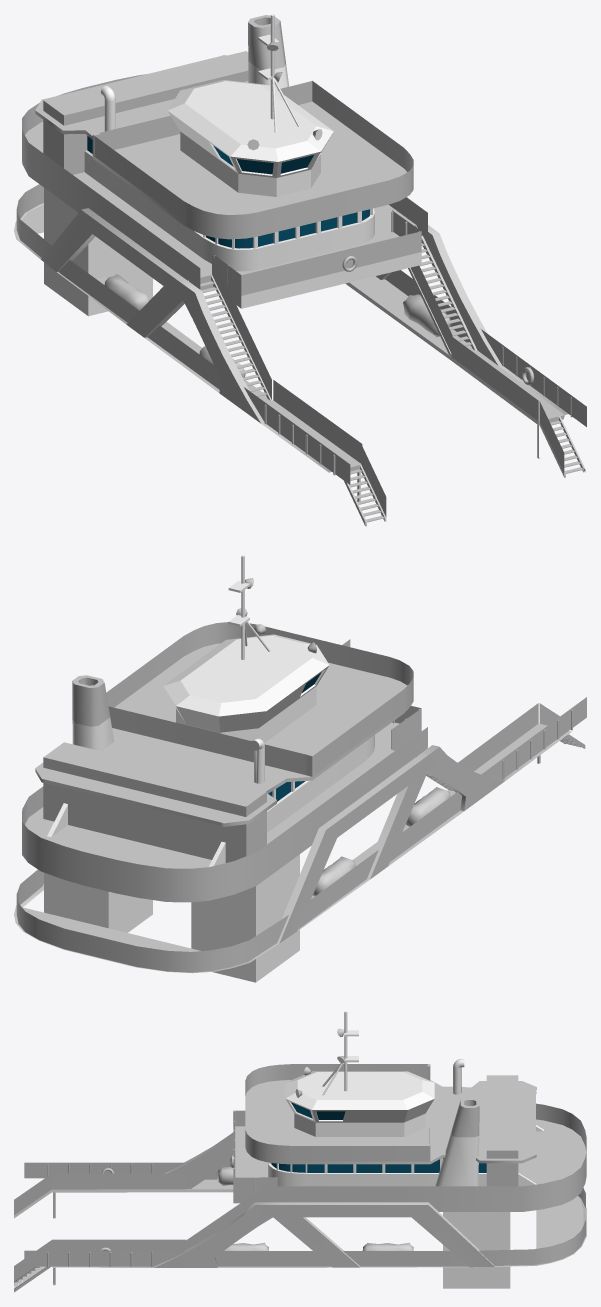
Rendered from ferry_cabin.dae.
3 renders of one model, top to bottom at view 1: azimuth 30°, elevation 25°; view 2: azimuth 150°, elevation 25°; view 3: azimuth 270°, elevation 25°, orthographic. The views are drawn at different scales.
Parts seen in each view (by area): view 1: ferry_cabin; view 2: ferry_cabin; view 3: ferry_cabin.
Boxes of the visible parts, left/top/right/bottom form: ferry_cabin: left=14, top=14, right=586, bottom=526; ferry_cabin: left=14, top=555, right=586, bottom=982; ferry_cabin: left=14, top=1011, right=586, bottom=1292.
Bounding box in the file's own units: 12.38 × 32.9 × 15.55.
